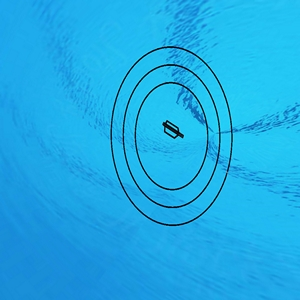circle: (105, 37, 237, 234)
submarine: (161, 119, 182, 140)
